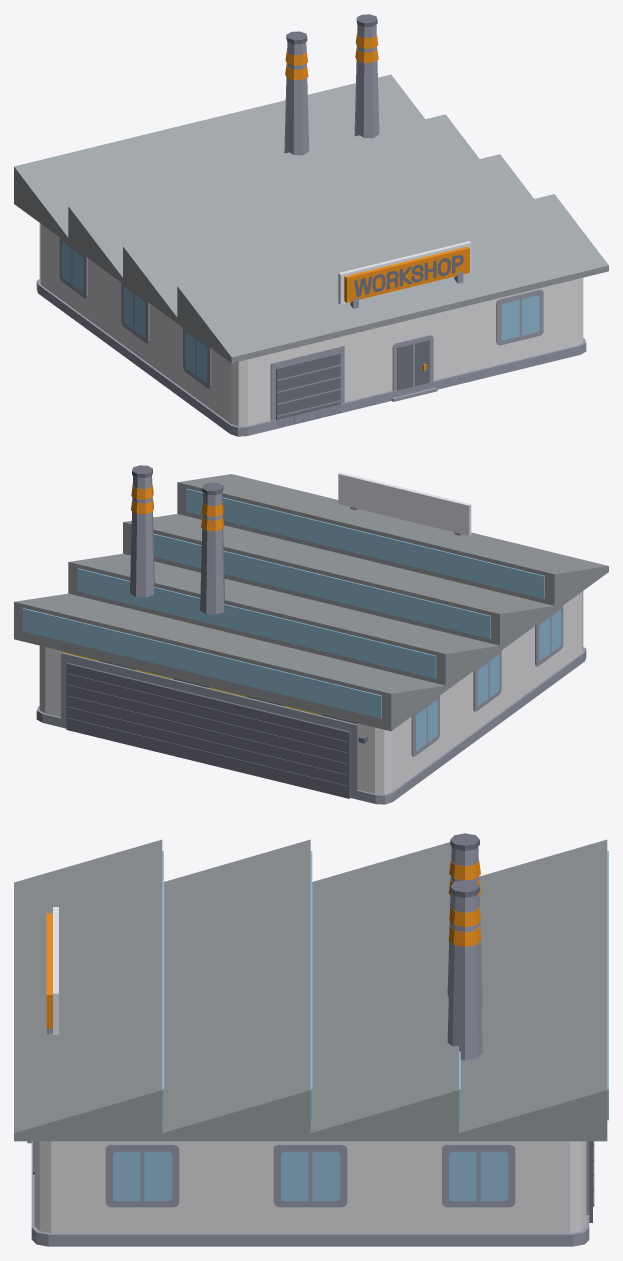
The model's file is workshop-2x2-t2-tone-a.glb.
The picture shows the model from 3 angles, top to bottom: view 1: azimuth 30°, elevation 25°; view 2: azimuth 150°, elevation 25°; view 3: azimuth 270°, elevation 25°; orthographic projection. The views are drawn at different scales.
Parts seen in each view (by area): view 1: workshop-2x2-t2-tone-a; view 2: workshop-2x2-t2-tone-a; view 3: workshop-2x2-t2-tone-a.
Boxes of the visible parts, x1,y1,x2,y2 form: workshop-2x2-t2-tone-a: (14,14,608,436); workshop-2x2-t2-tone-a: (14,465,608,804); workshop-2x2-t2-tone-a: (14,833,608,1246).
Bounding box in the file's own units: 2 × 1.18 × 2.01.
Materials: 1 (1 with a texture image).
